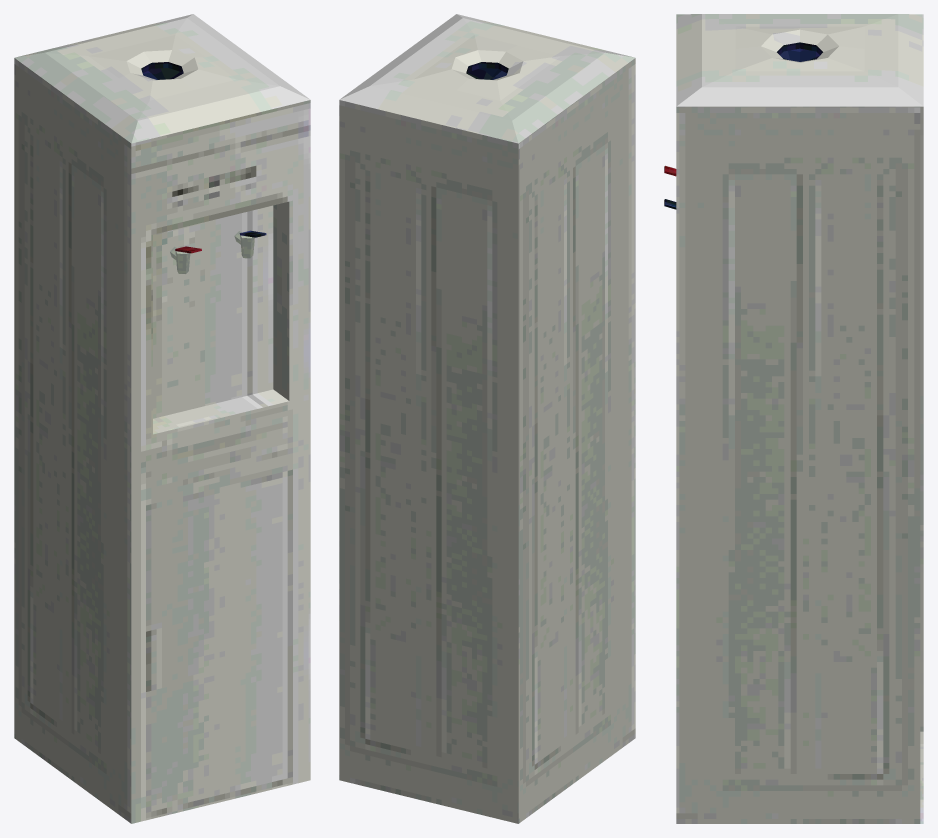
The model's file is water_cooler.glb.
3 views of the same model, side by side, from view 1: azimuth 30°, elevation 25°; view 2: azimuth 150°, elevation 25°; view 3: azimuth 270°, elevation 25° (orthographic). The views are drawn at different scales.
Visible parts, largest first — view 1: water_cooler; view 2: water_cooler; view 3: water_cooler.
Boxes of the visible parts, x1,y1,x2,y2 form: water_cooler: (14,14,310,823); water_cooler: (339,14,635,823); water_cooler: (664,14,923,823).
Bounding box in the file's own units: 0.3776 × 1.4 × 0.4488.
1 material, 1 textured.
